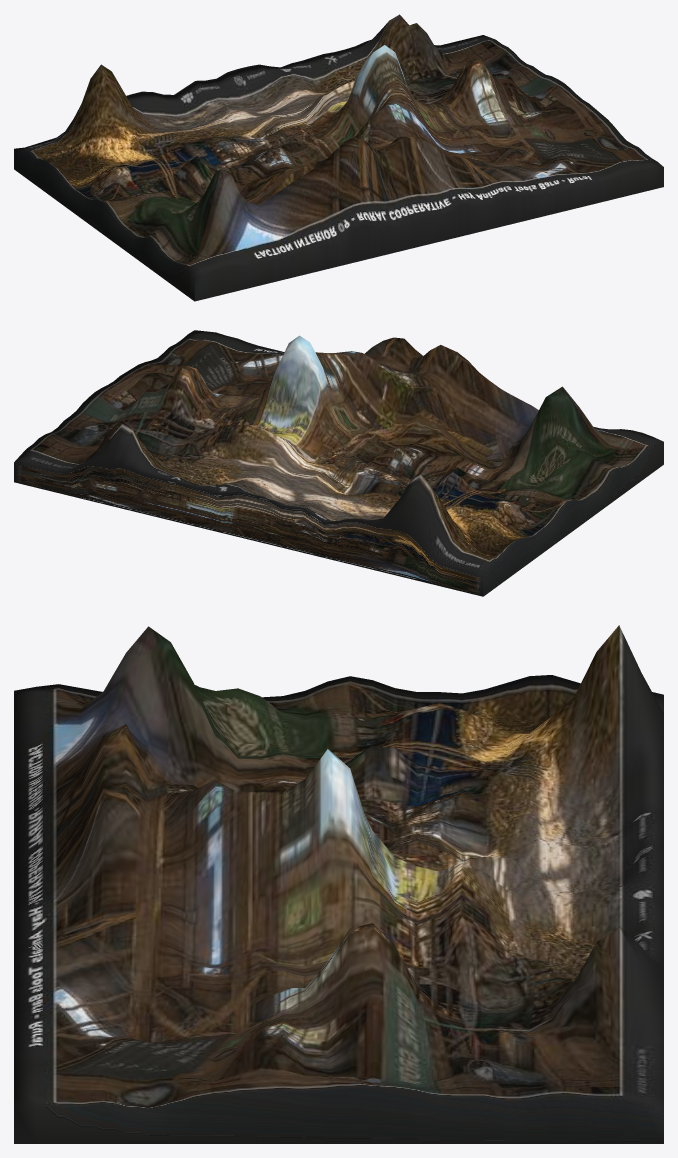
File: FACTION_INT_09_Rural_Cooperative.glb
3 views of the same model, one above another, from view 1: azimuth 30°, elevation 25°; view 2: azimuth 150°, elevation 25°; view 3: azimuth 270°, elevation 25° (orthographic). The views are drawn at different scales.
Visible parts, largest first — view 1: FACTION_INT_09_Rural_Cooperative; view 2: FACTION_INT_09_Rural_Cooperative; view 3: FACTION_INT_09_Rural_Cooperative.
Part boxes in pixels (x1,y1,x2,y2): FACTION_INT_09_Rural_Cooperative: (14,14,663,301); FACTION_INT_09_Rural_Cooperative: (14,330,663,596); FACTION_INT_09_Rural_Cooperative: (14,625,663,1143).
Size of the model in its own units: 2 by 0.51 by 1.33.
Materials: 1 (1 with a texture image).
